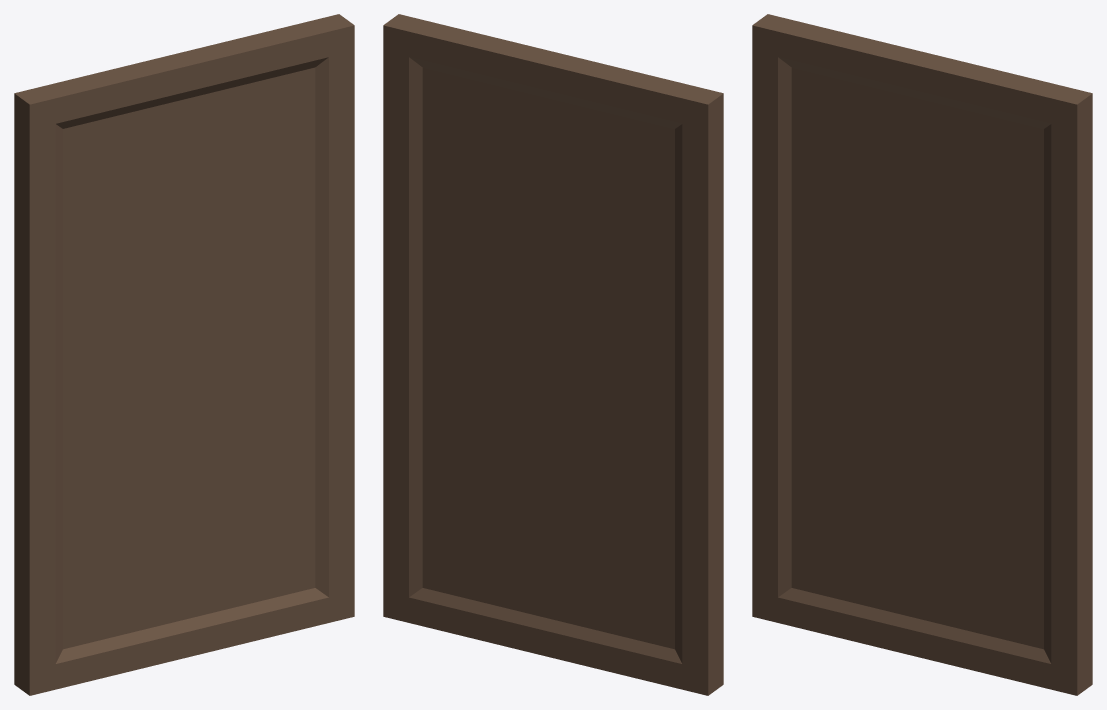
File: RS_WideFrontDoor_CS04.fbx
The picture shows the model from 3 angles, left to right: view 1: azimuth 30°, elevation 25°; view 2: azimuth 150°, elevation 25°; view 3: azimuth 330°, elevation 25°; orthographic projection.
Parts seen in each view (by area): view 1: RS_WideFrontDoor_CS04; view 2: RS_WideFrontDoor_CS04; view 3: RS_WideFrontDoor_CS04.
Boxes of the visible parts, box(x1,y1,x2,y2) form: RS_WideFrontDoor_CS04: box(14, 14, 354, 695); RS_WideFrontDoor_CS04: box(383, 14, 723, 695); RS_WideFrontDoor_CS04: box(752, 14, 1092, 695).
Size of the model in its own units: 2.88 by 5 by 0.2384.
